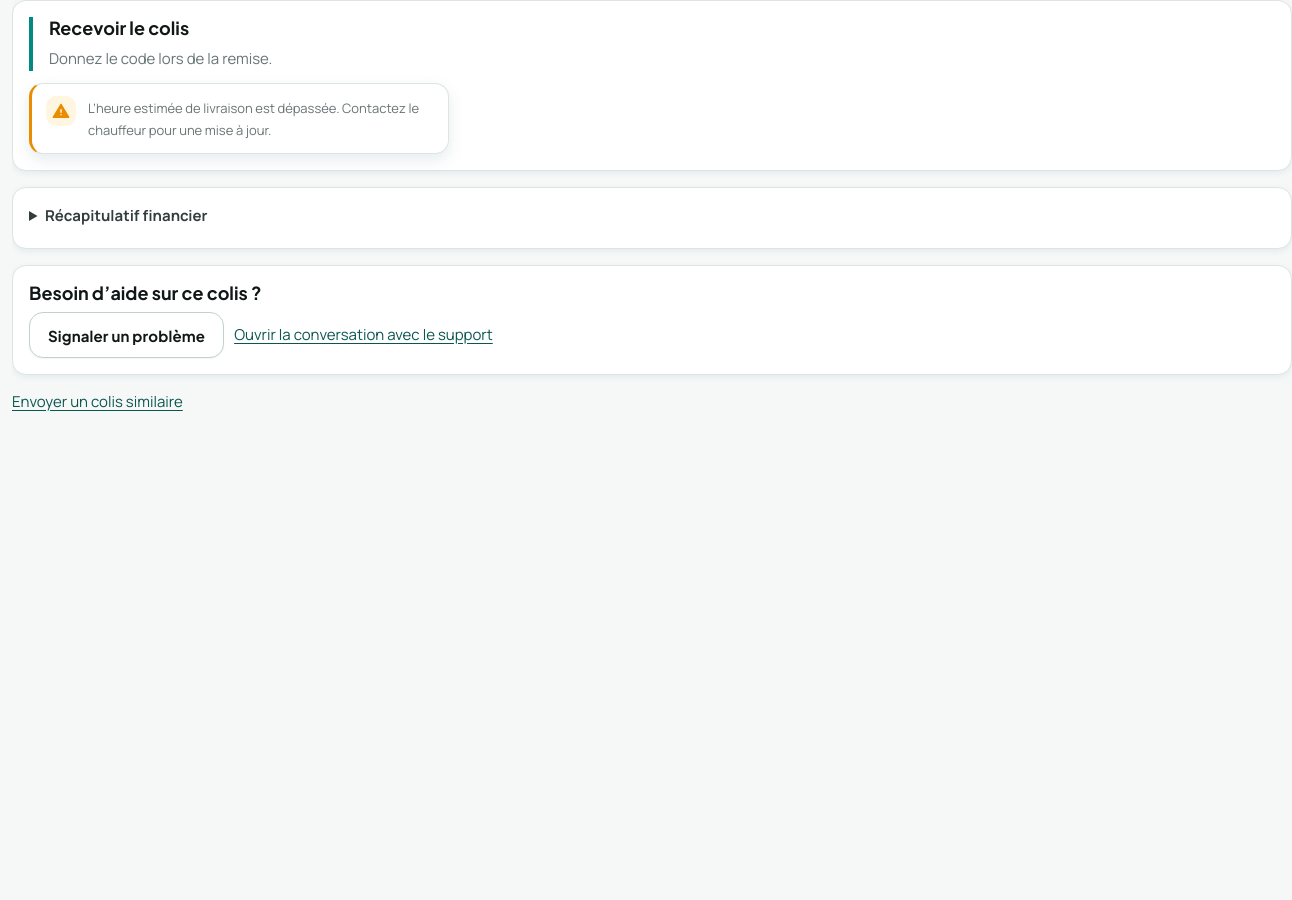
Test: outils de livraison › garde la saisie de réclamation après une panne
Step 1. Click the button "Signaler un problème" → (127, 335), box x1=29 y1=312 x2=224 y2=358
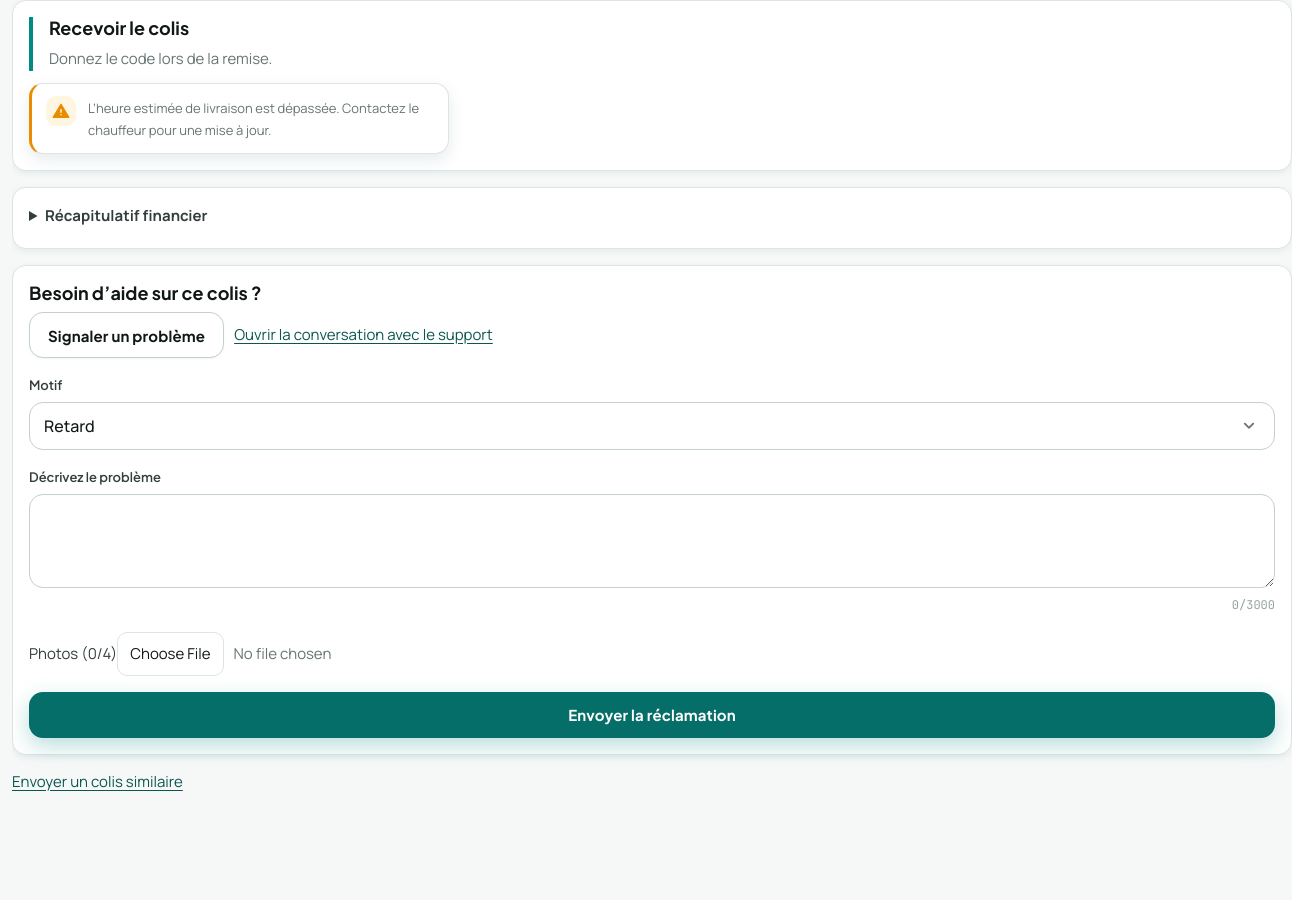
Step 2. Type "Le colis est arrivé abîmé." into the text box labelled "Décrivez le problème" → (652, 541), box x1=29 y1=494 x2=1275 y2=588
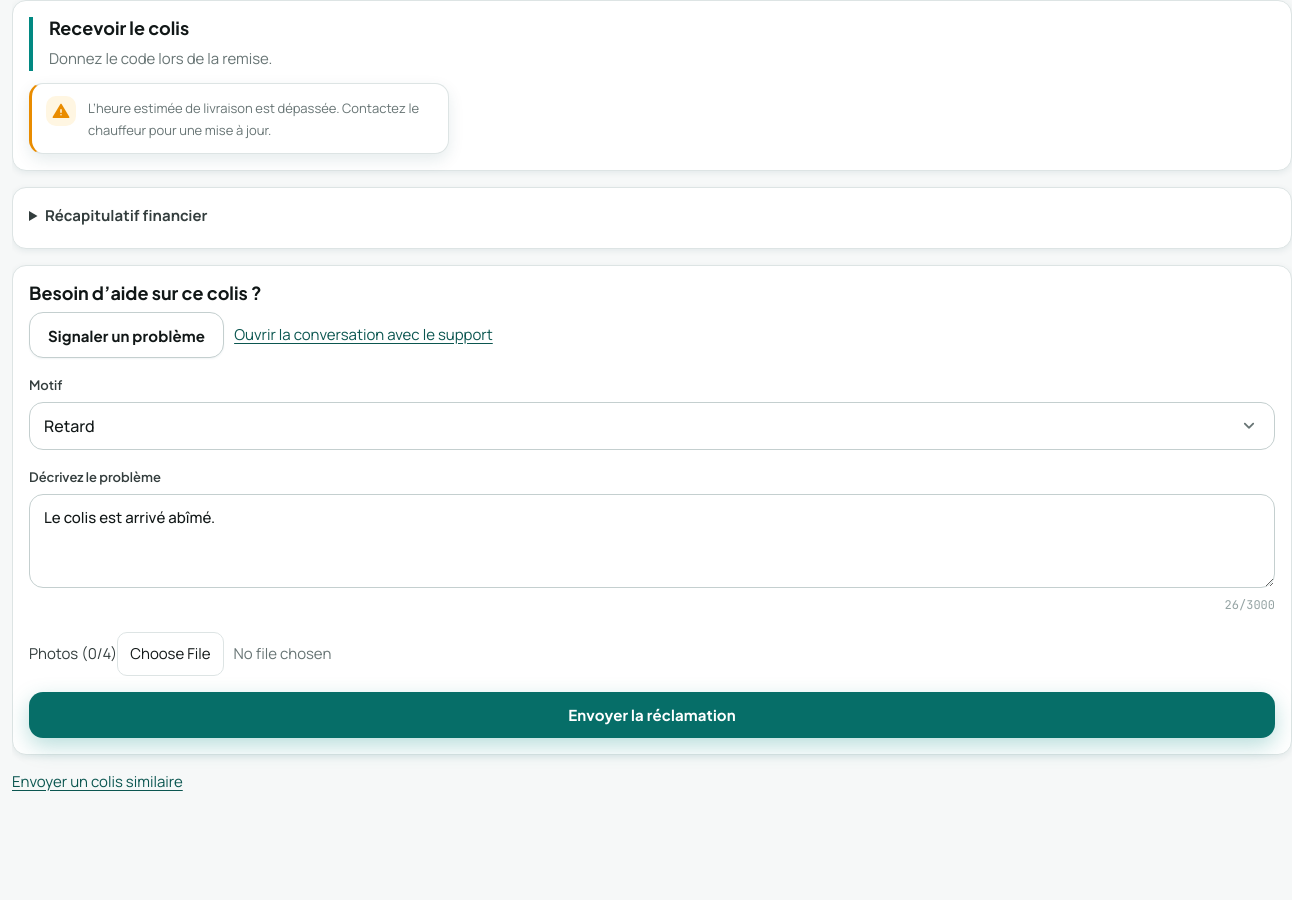
Step 3. Click the button "Envoyer la réclamation" → (652, 714), box x1=29 y1=692 x2=1275 y2=738
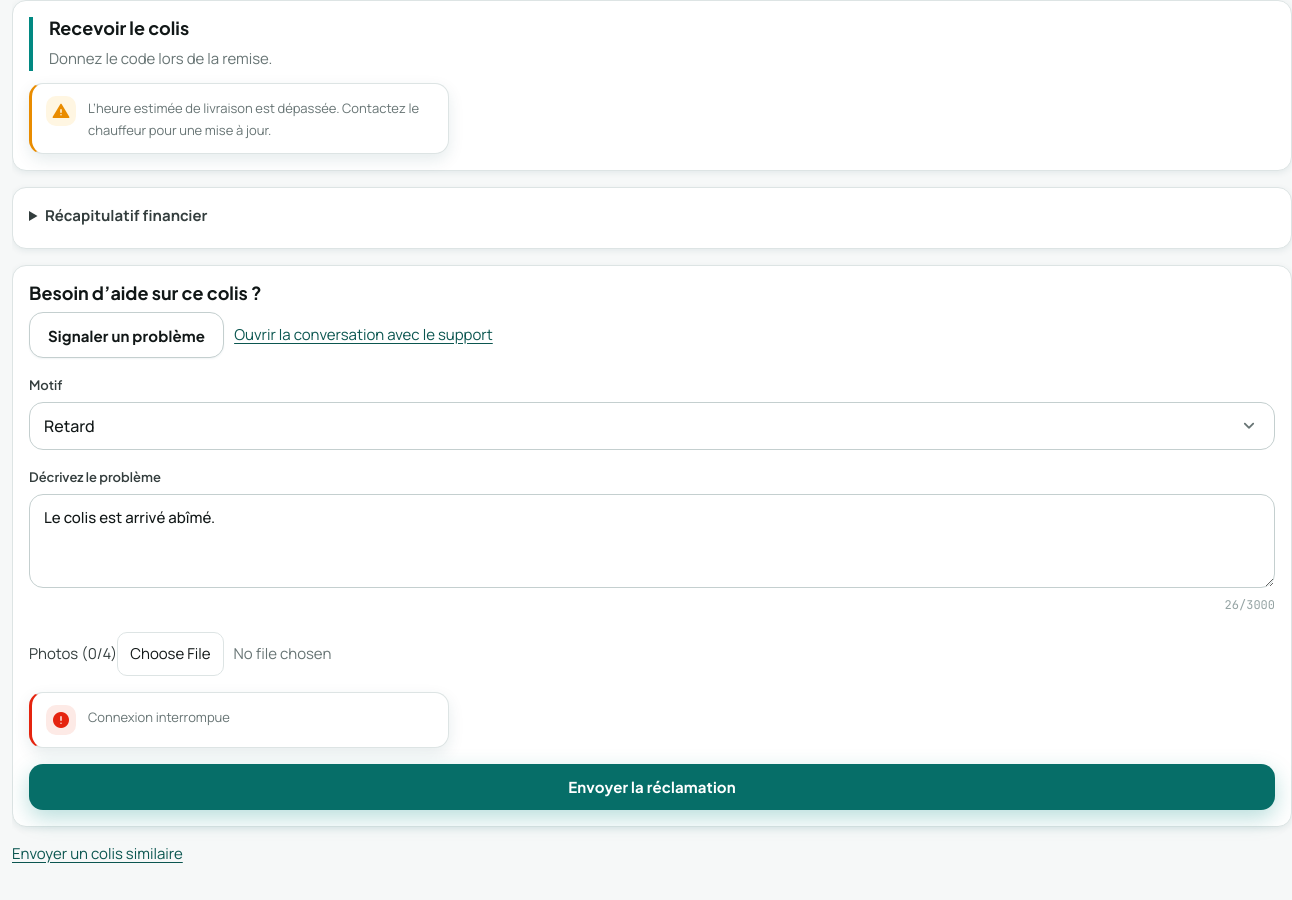
expect the text "Connexion interrompue" is shown: met, box x1=88 y1=708 x2=230 y2=726
